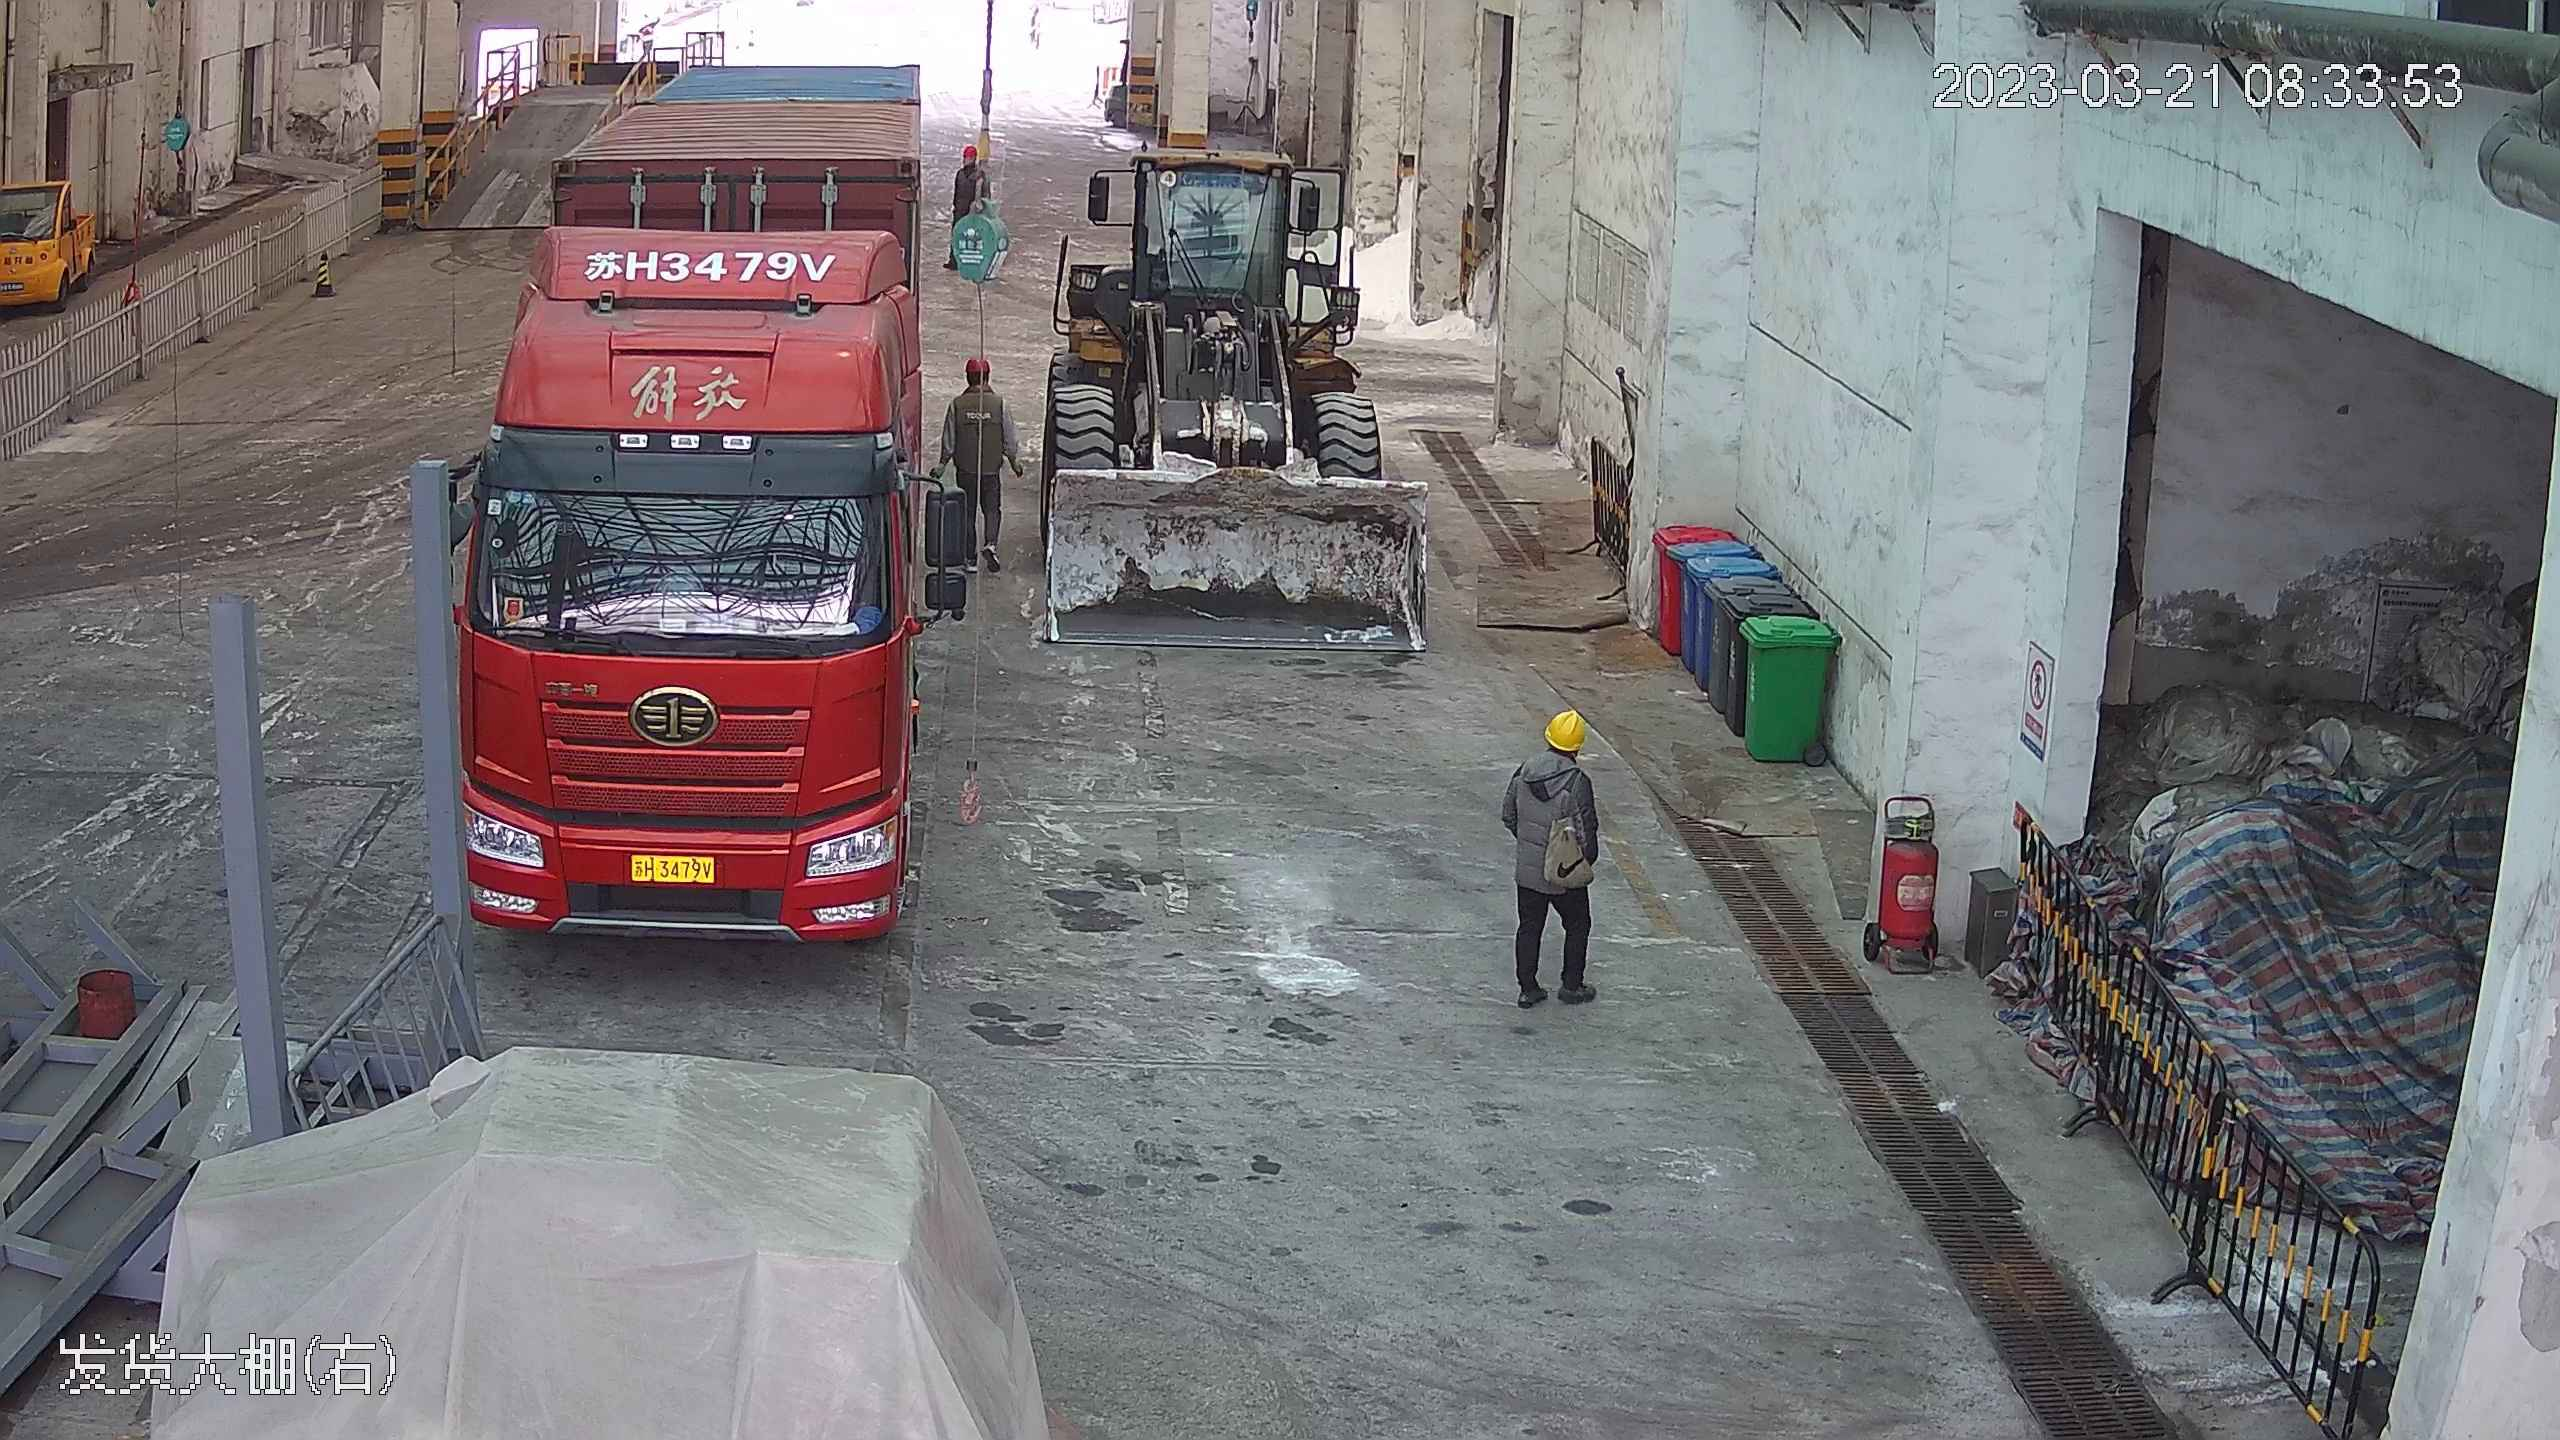head: (1506, 707, 1600, 806), (952, 354, 1009, 424), (1541, 706, 1592, 753), (953, 139, 984, 180)
helmet: (1542, 706, 1591, 751), (962, 352, 993, 375), (958, 142, 979, 161)
people: (1500, 700, 1605, 1008), (945, 351, 1017, 583), (951, 143, 987, 273)
truck: (436, 75, 954, 935)
